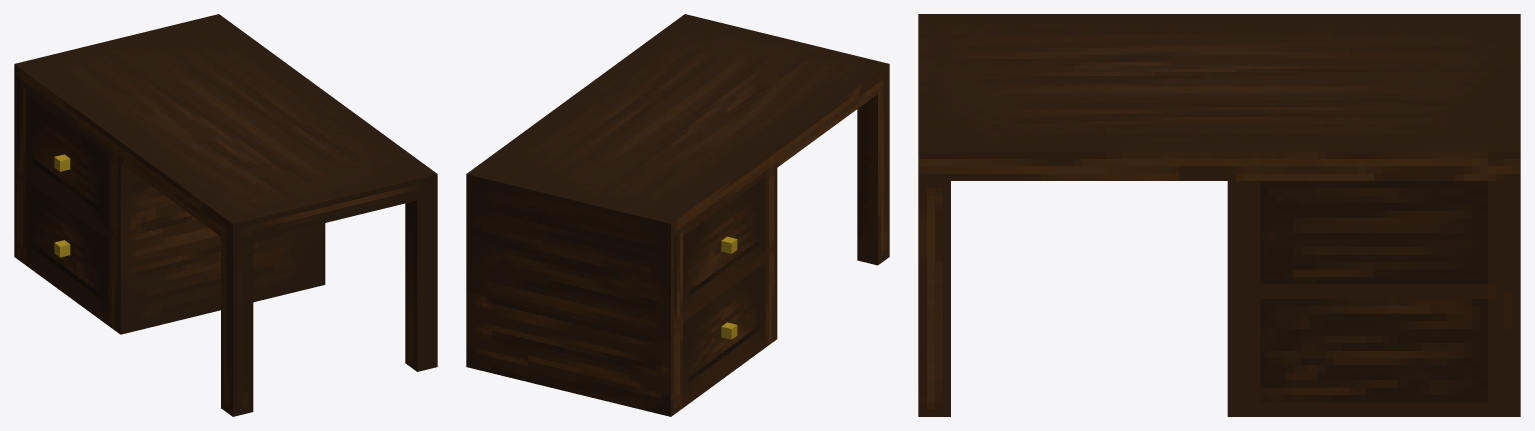
Rendered from desk.gltf.
3 renders of one model, left to right at view 1: azimuth 30°, elevation 25°; view 2: azimuth 150°, elevation 25°; view 3: azimuth 270°, elevation 25°, orthographic. The views are drawn at different scales.
Parts seen in each view (by area): view 1: cuboid, Drawer (×2); view 2: cuboid, Drawer (×2); view 3: cuboid, Drawer (×2).
Boxes of the visible parts, x1=… form: cuboid: x1=14, y1=14, x2=437, y2=416; Drawer (×2): x1=26, y1=94, x2=108, y2=314; cuboid: x1=466, y1=14, x2=889, y2=416; Drawer (×2): x1=683, y1=176, x2=765, y2=396; cuboid: x1=918, y1=14, x2=1520, y2=416; Drawer (×2): x1=1260, y1=181, x2=1487, y2=402.
Size of the model in its own units: 1.31 by 1.12 by 2.31.
Materials: 1 (1 with a texture image).
